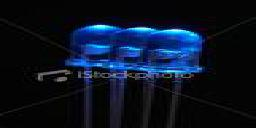LED: (61, 25, 206, 78), (143, 28, 210, 78), (64, 23, 116, 83)
